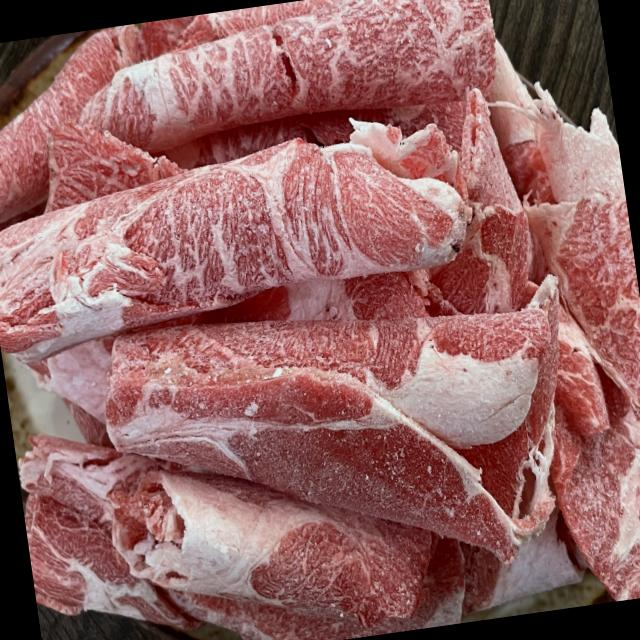beef: (37, 0, 586, 598)
